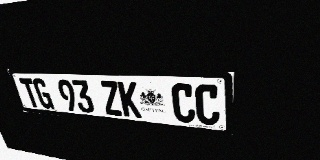3: (71, 80, 95, 113)
9: (56, 79, 80, 112)
C: (195, 84, 220, 126), (171, 83, 196, 123)
G: (31, 78, 55, 109)
K: (117, 81, 142, 118)
T: (19, 78, 41, 108)
Z: (99, 81, 123, 116)
